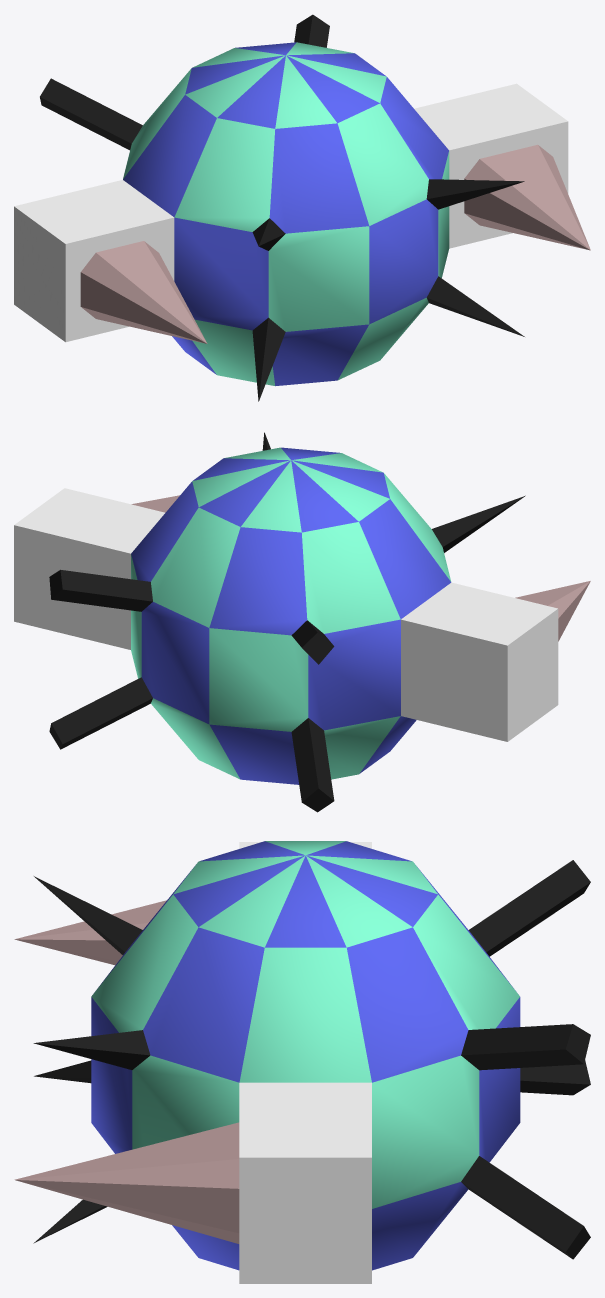
The model's file is Xphere_003.FBX.
The picture shows the model from 3 angles, top to bottom: view 1: azimuth 30°, elevation 25°; view 2: azimuth 150°, elevation 25°; view 3: azimuth 270°, elevation 25°; orthographic projection. The views are drawn at different scales.
Parts seen in each view (by area): view 1: Sphere001; view 2: Sphere001; view 3: Sphere001.
Boxes of the visible parts, x1,y1,x2,y2 form: Sphere001: [14, 14, 590, 401]; Sphere001: [14, 432, 590, 812]; Sphere001: [14, 841, 590, 1283].
Size of the model in its own units: 13.03 by 7.87 by 10.07.
